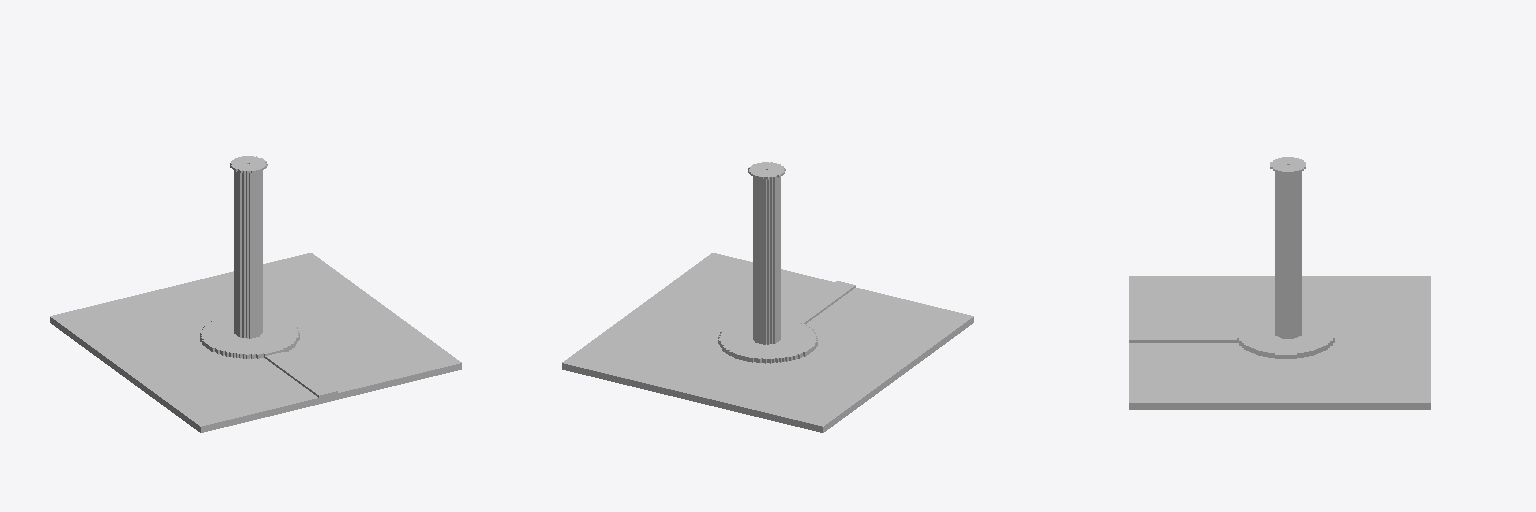
The model's file is Tower.obj.
3 views of the same model, side by side, from view 1: azimuth 30°, elevation 25°; view 2: azimuth 150°, elevation 25°; view 3: azimuth 270°, elevation 25° (orthographic).
Visible parts, largest first — view 1: object 1; view 2: object 1; view 3: object 1.
Part boxes in pixels (left/top/right/bottom): object 1: left=50, top=156, right=461, bottom=432; object 1: left=562, top=162, right=973, bottom=432; object 1: left=1129, top=157, right=1430, bottom=409.
Size of the model in its own units: 12.6 by 8.3 by 12.6.